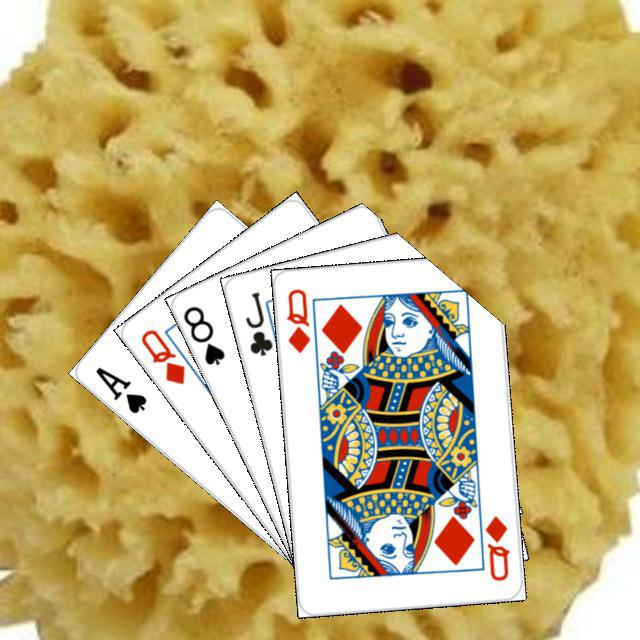8s: (178, 300, 227, 367)
As: (90, 361, 149, 416)
Jc: (240, 287, 275, 358)
Qd: (135, 324, 187, 387), (480, 510, 512, 583), (282, 284, 312, 354)
